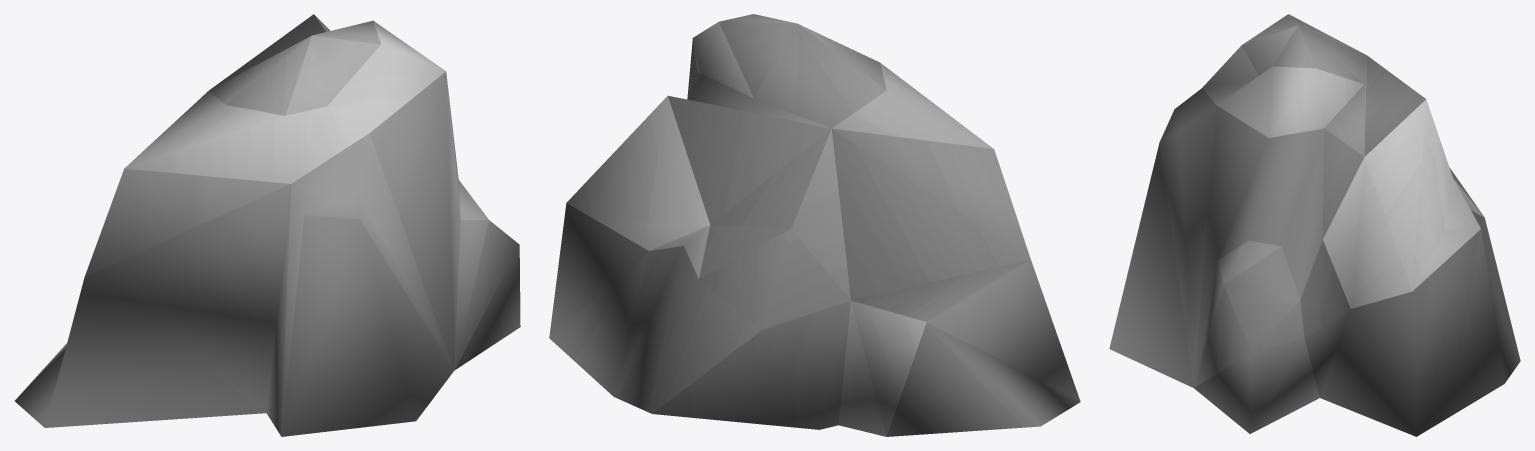
Rendered from GL-Rock-08.fbx.
The picture shows the model from 3 angles, left to right: view 1: azimuth 30°, elevation 25°; view 2: azimuth 150°, elevation 25°; view 3: azimuth 270°, elevation 25°; orthographic projection.
Visible parts, largest first — view 1: GL-Rock-08; view 2: GL-Rock-08; view 3: GL-Rock-08.
Part boxes in pixels (<box>): GL-Rock-08: <box>15,14,520,436</box>; GL-Rock-08: <box>549,14,1080,436</box>; GL-Rock-08: <box>1109,14,1520,436</box>.
Bounding box in the file's own units: 9.94 × 6.51 × 7.61.
